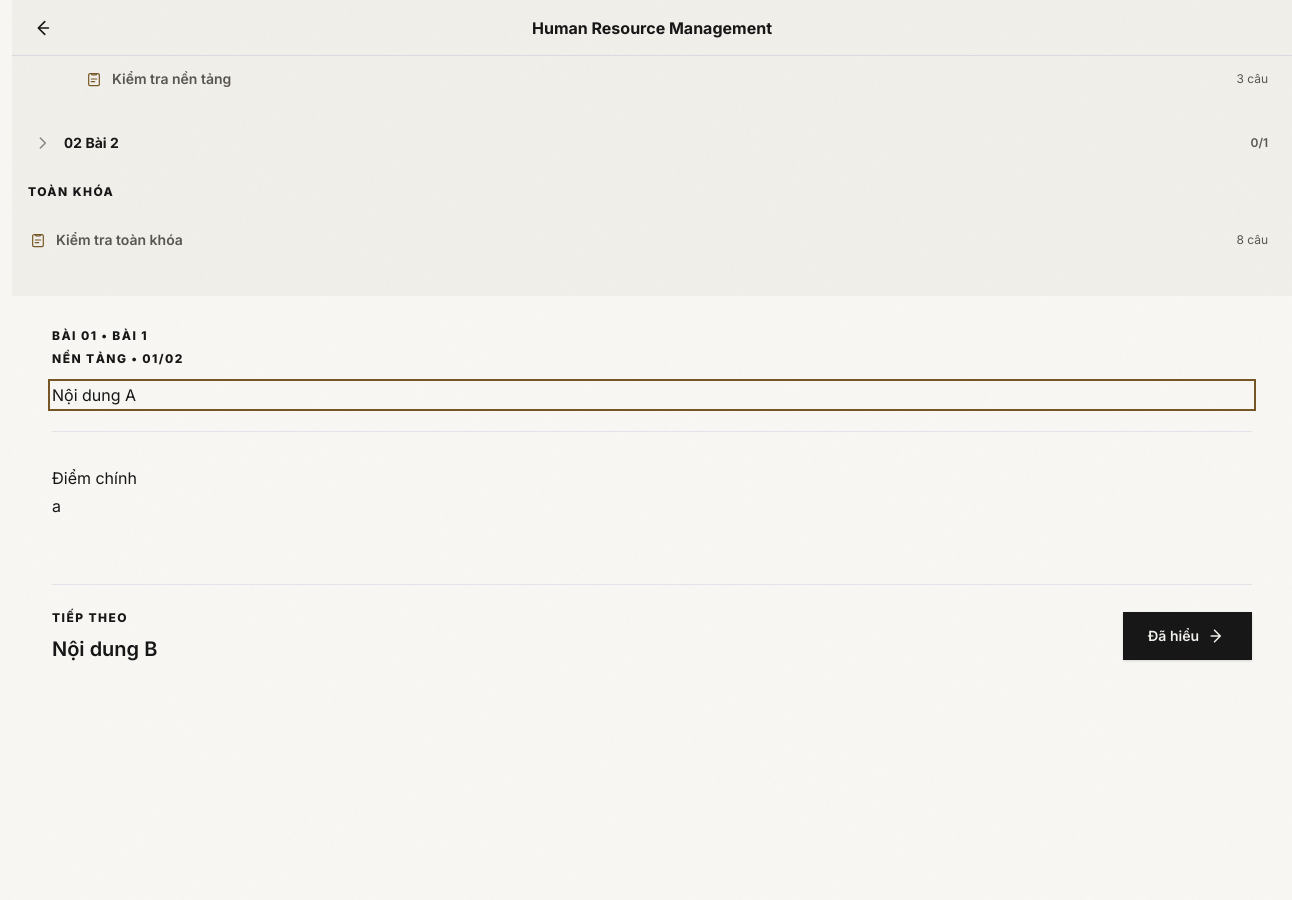
Scenario: CourseWorkspace interactions › keeps the optimistic lesson open when progress can be retried later
(page scrolled)
Check: the text "a" is shown, box top-left (52, 496), bottom-right (61, 516)
Click the button "Đã hiểu" at (1187, 636), box top-left (1123, 612), bottom-right (1252, 660)
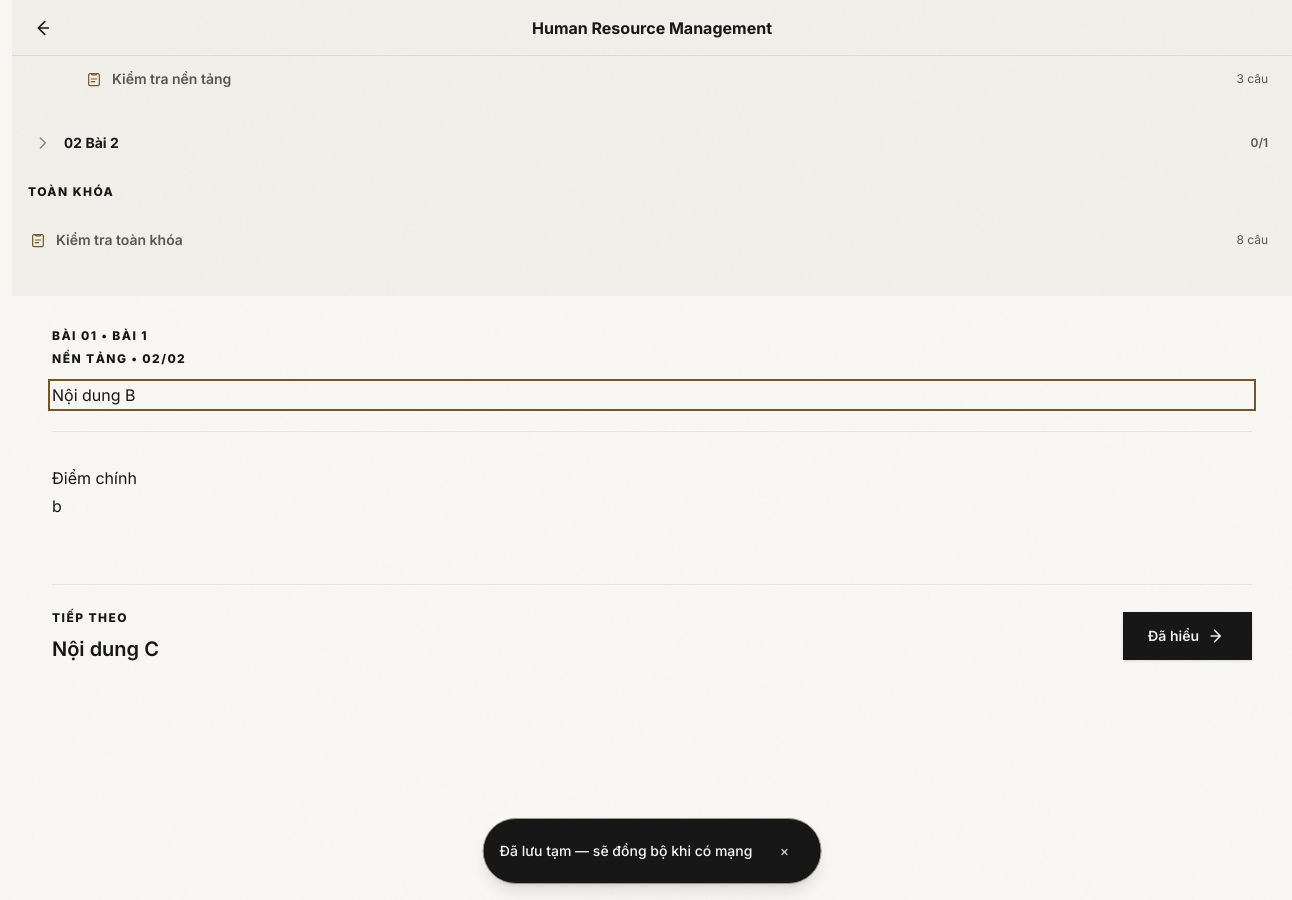
Check: the heading "Nội dung B" is shown, box top-left (52, 383), bottom-right (1252, 407)
Check: the text "Đã lưu tạm — sẽ đồng bộ khi có mạng" is shown, box top-left (500, 841), bottom-right (752, 861)
